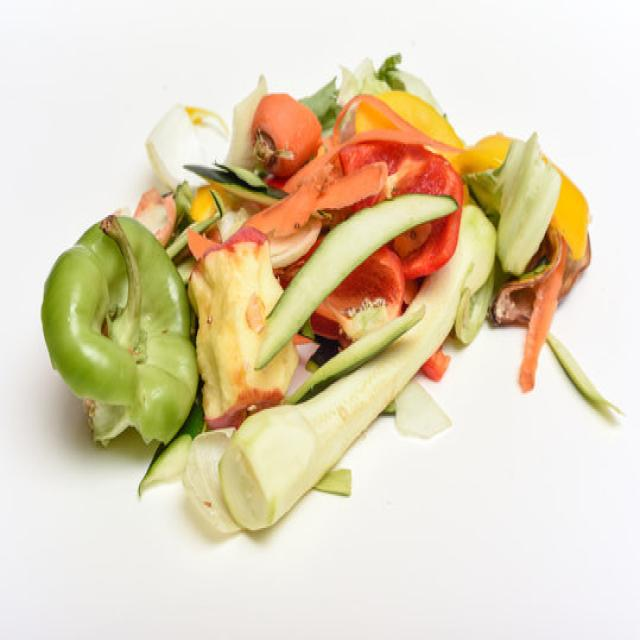Wet: (214, 204, 497, 532), (40, 212, 201, 446), (252, 193, 460, 372), (188, 222, 302, 428), (496, 132, 564, 278), (244, 92, 323, 180)
